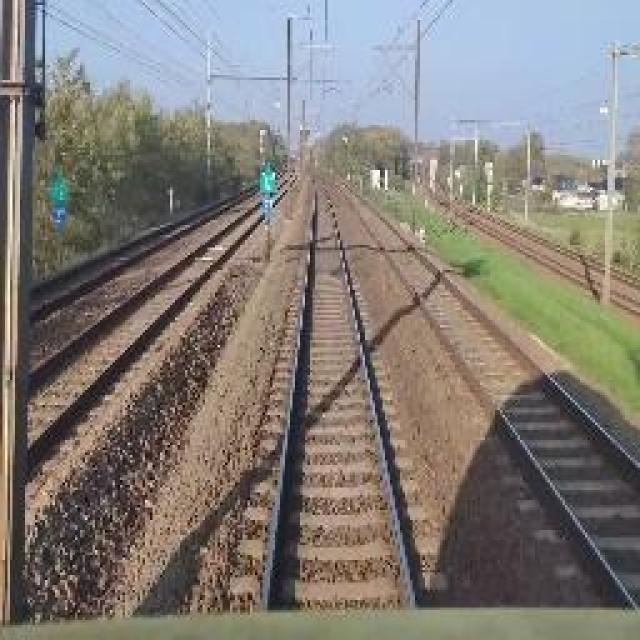rail: (330, 178, 640, 607), (222, 164, 462, 616), (20, 172, 305, 508), (25, 169, 286, 331)
